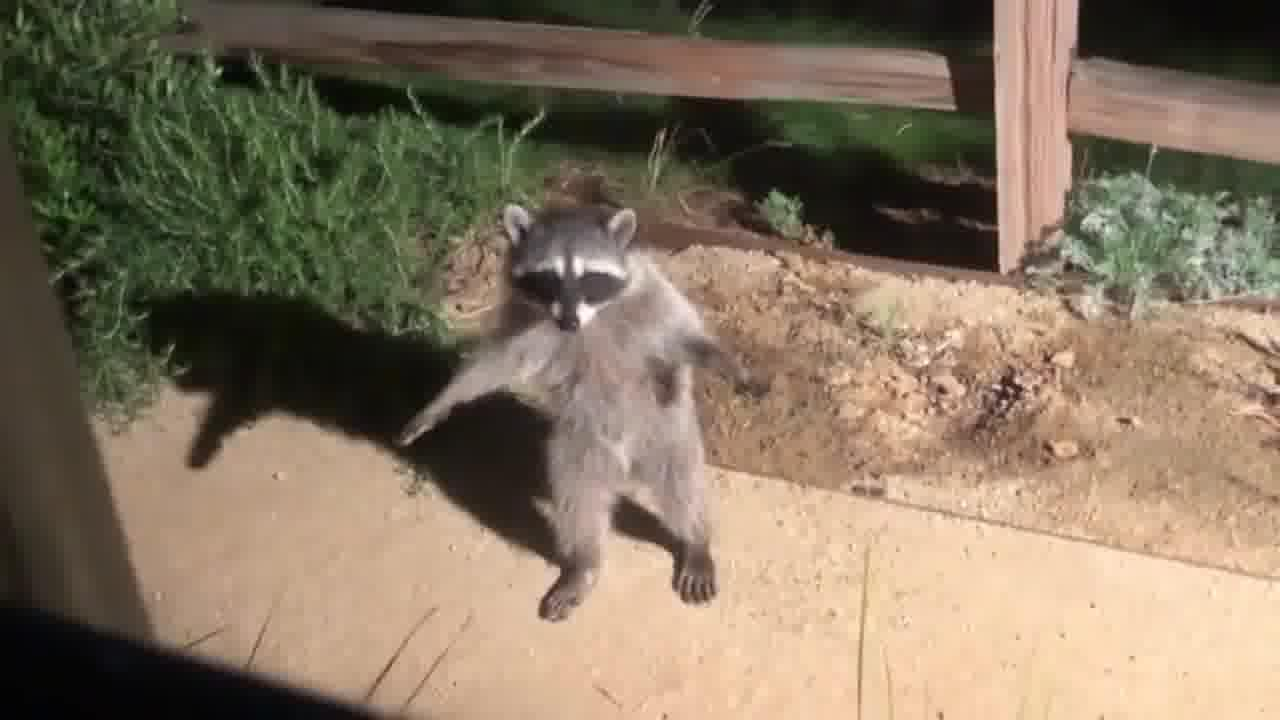raccoon: (392, 202, 776, 622)
